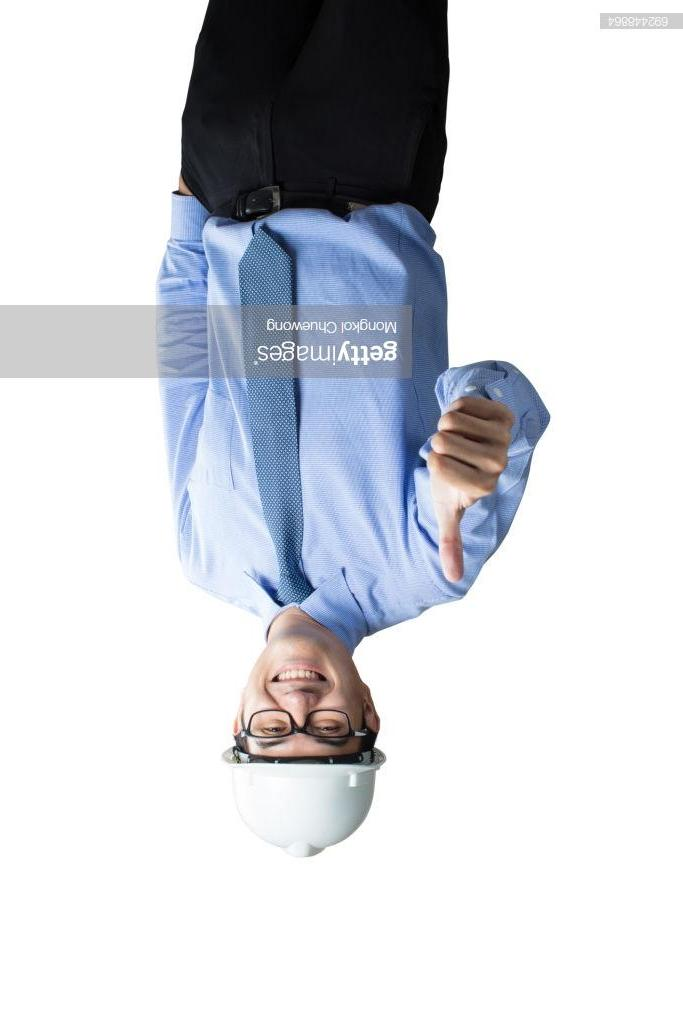thumbsdown: (426, 397, 516, 583)
